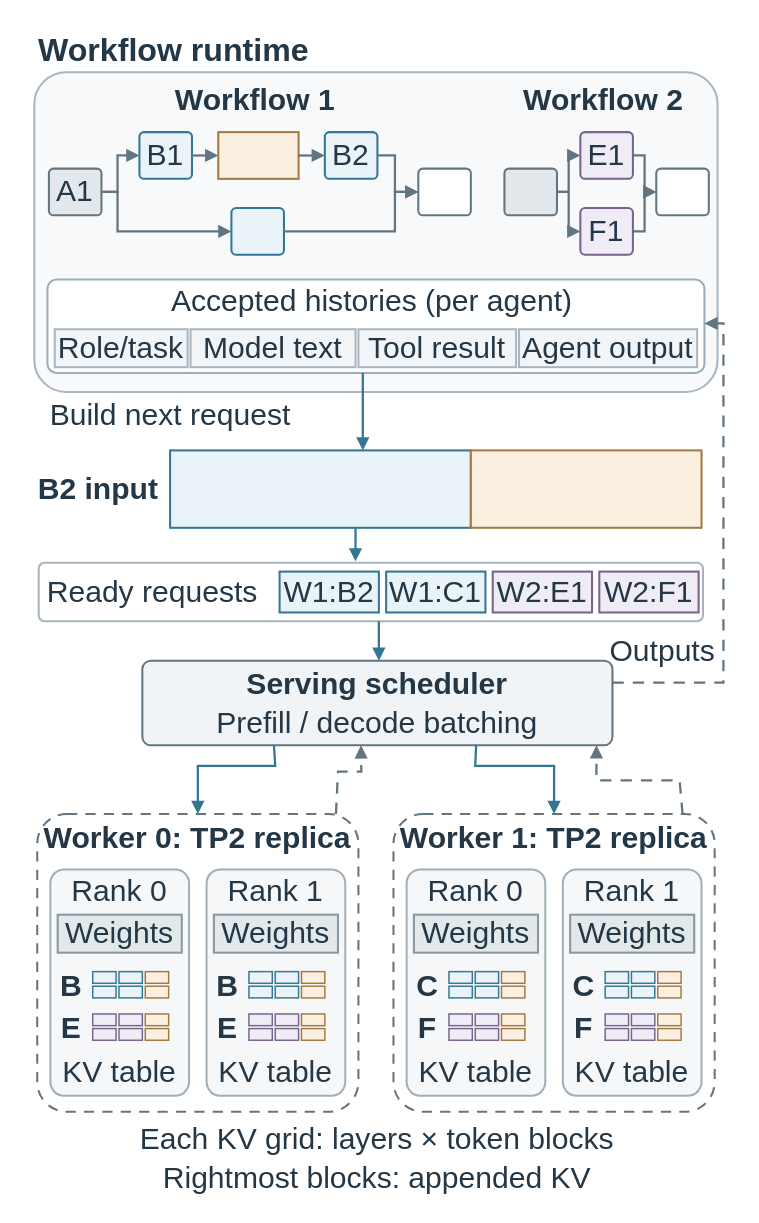
The diagram is 759 pixels wide and 1223 high, and some of its shapes have lost their labels. The box of each missing label's shape, as (x1, y1, x2, y2) in pixels:
A2: (417, 167, 471, 216)
C1: (230, 206, 284, 255)
Cached prefix reuse KV: (168, 449, 471, 528)
D1: (503, 167, 557, 216)
D2: (655, 167, 709, 216)
New tokens prefill: (469, 449, 702, 528)
Tool: (217, 130, 299, 179)
